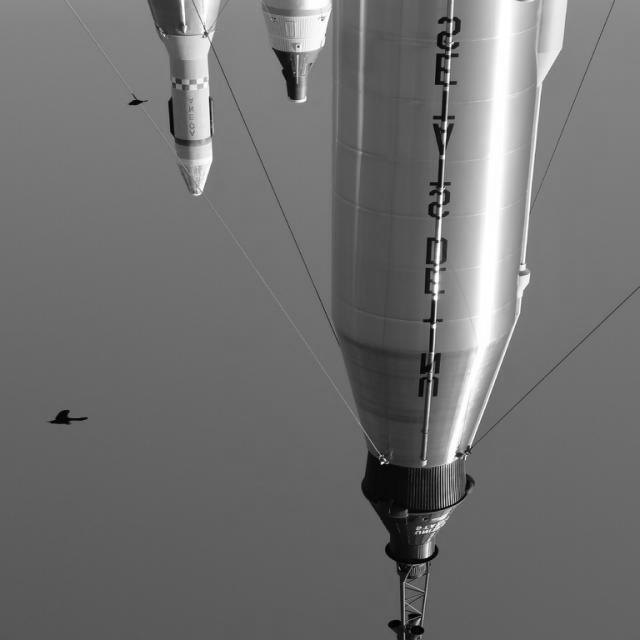missile: (336, 0, 548, 569), (149, 0, 224, 196), (266, 0, 339, 99)
